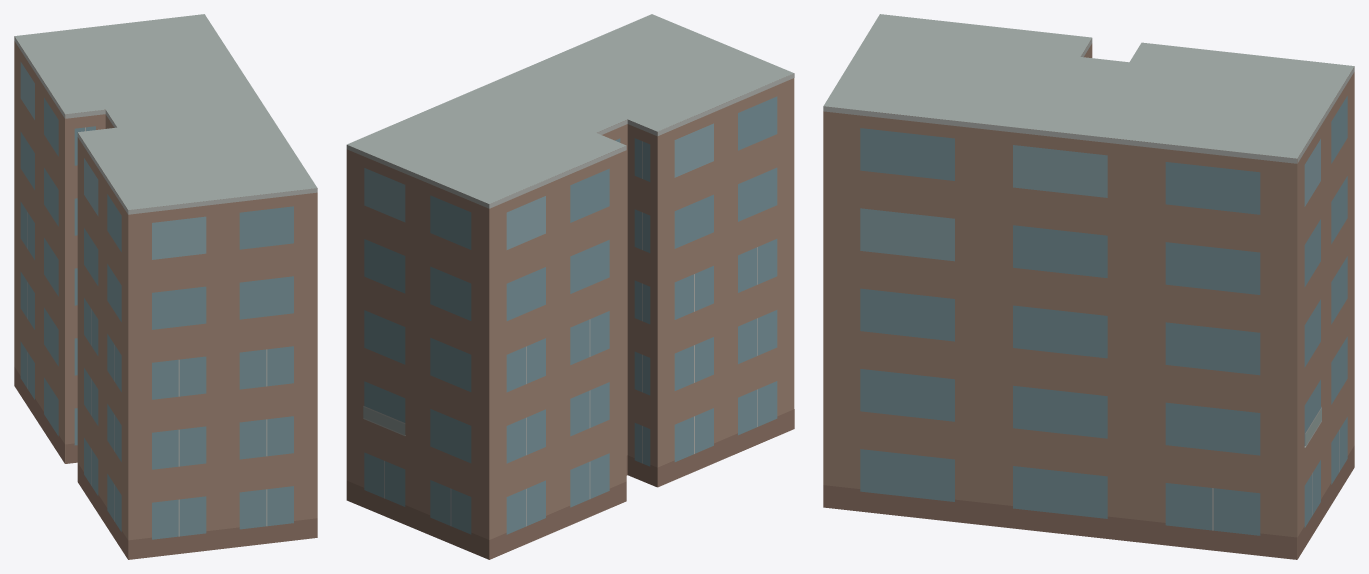
Rendered from survey-upis-32981067.glb.
The picture shows the model from 3 angles, left to right: view 1: azimuth 30°, elevation 25°; view 2: azimuth 150°, elevation 25°; view 3: azimuth 270°, elevation 25°; orthographic projection. The views are drawn at different scales.
Parts seen in each view (by area): view 1: survey-upis-32981067.tmp; view 2: survey-upis-32981067.tmp; view 3: survey-upis-32981067.tmp.
Part boxes in pixels (x1,y1,x2,y2): survey-upis-32981067.tmp: (14, 14, 317, 559); survey-upis-32981067.tmp: (346, 14, 794, 559); survey-upis-32981067.tmp: (823, 14, 1354, 559).
Size of the model in its own units: 14.54 by 18.8 by 22.57.
